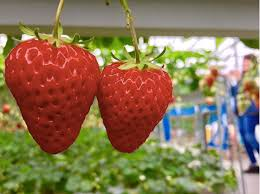ripe: (0, 33, 111, 161), (90, 53, 176, 156)
